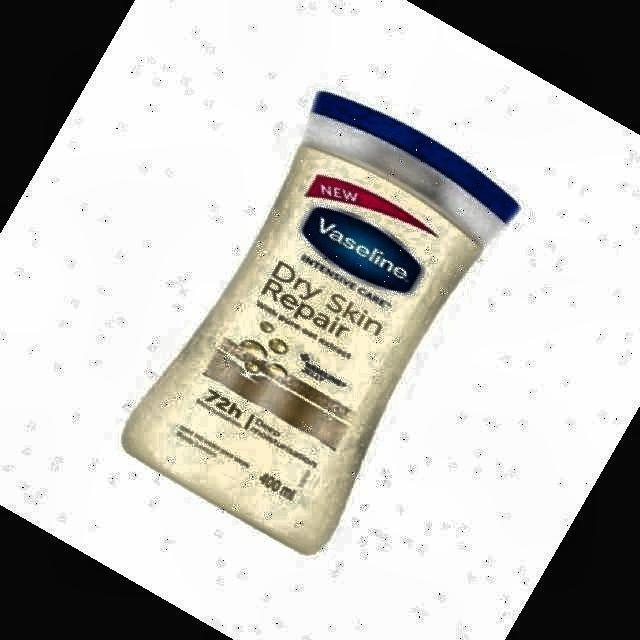plastic: (125, 91, 519, 552)
